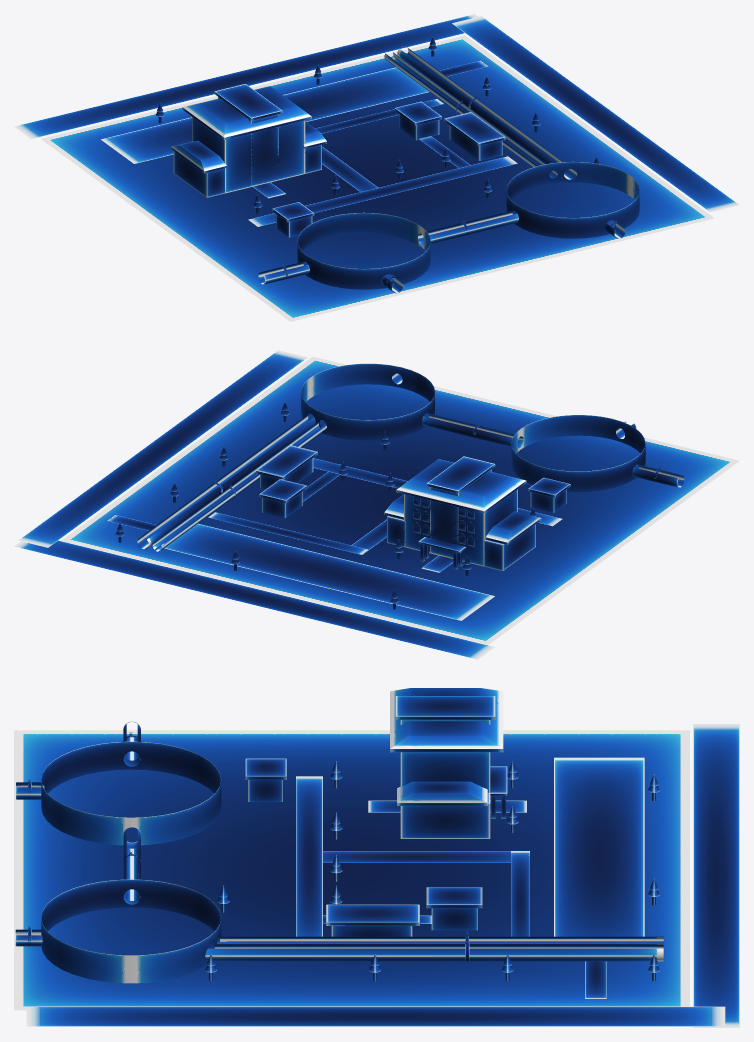
The model's file is fanzhuanxiaoguo2.gltf.
3 renders of one model, top to bottom at view 1: azimuth 30°, elevation 25°; view 2: azimuth 150°, elevation 25°; view 3: azimuth 270°, elevation 25°, orthographic. The views are drawn at different scales.
Parts seen in each view (by area): view 1: 阀门; view 2: 阀门; view 3: 阀门.
Boxes of the visible parts, box(x1,y1,x2,y2) form: 阀门: box(14, 14, 739, 321); 阀门: box(14, 350, 739, 659); 阀门: box(14, 688, 739, 1027).
Size of the model in its own units: 245 by 41.48 by 247.
2 materials, 1 textured.
